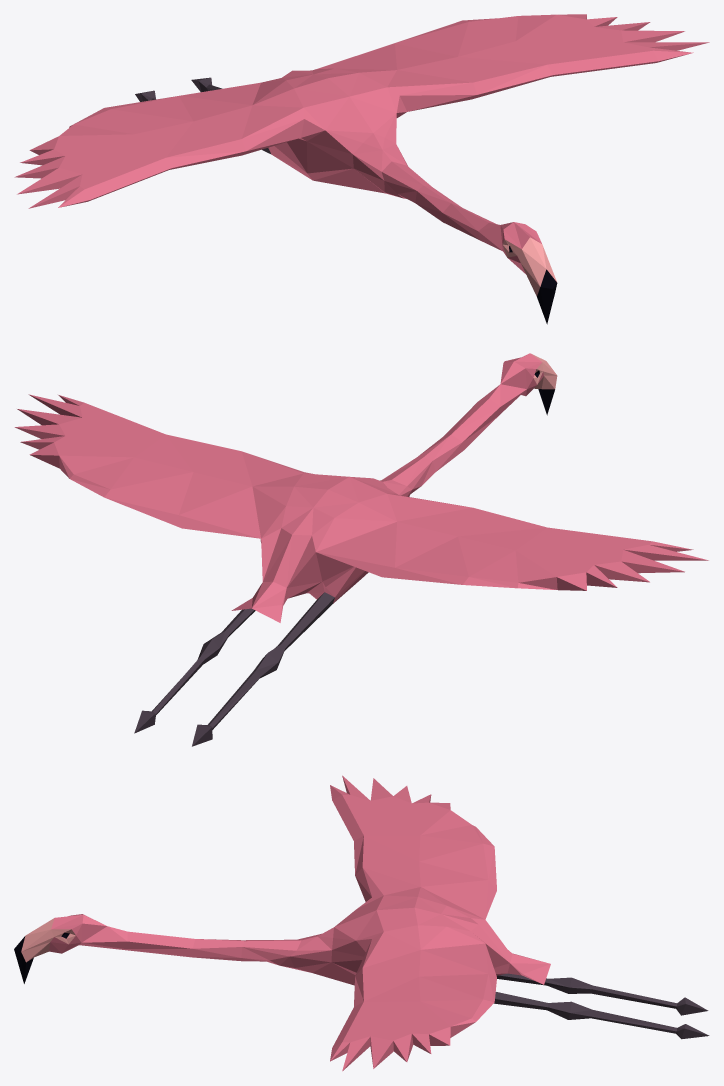
File: flamingo_color_test_v03.obj
3 views of the same model, one above another, from view 1: azimuth 30°, elevation 25°; view 2: azimuth 150°, elevation 25°; view 3: azimuth 270°, elevation 25° (orthographic). The views are drawn at different scales.
Parts seen in each view (by area): view 1: flamingo_body; view 2: flamingo_body; view 3: flamingo_body.
Boxes of the visible parts, left/top/right/bottom form: flamingo_body: left=14, top=14, right=709, bottom=324; flamingo_body: left=14, top=353, right=708, bottom=746; flamingo_body: left=14, top=775, right=709, bottom=1071.
Size of the model in its own units: 160 by 29.7 by 159.
